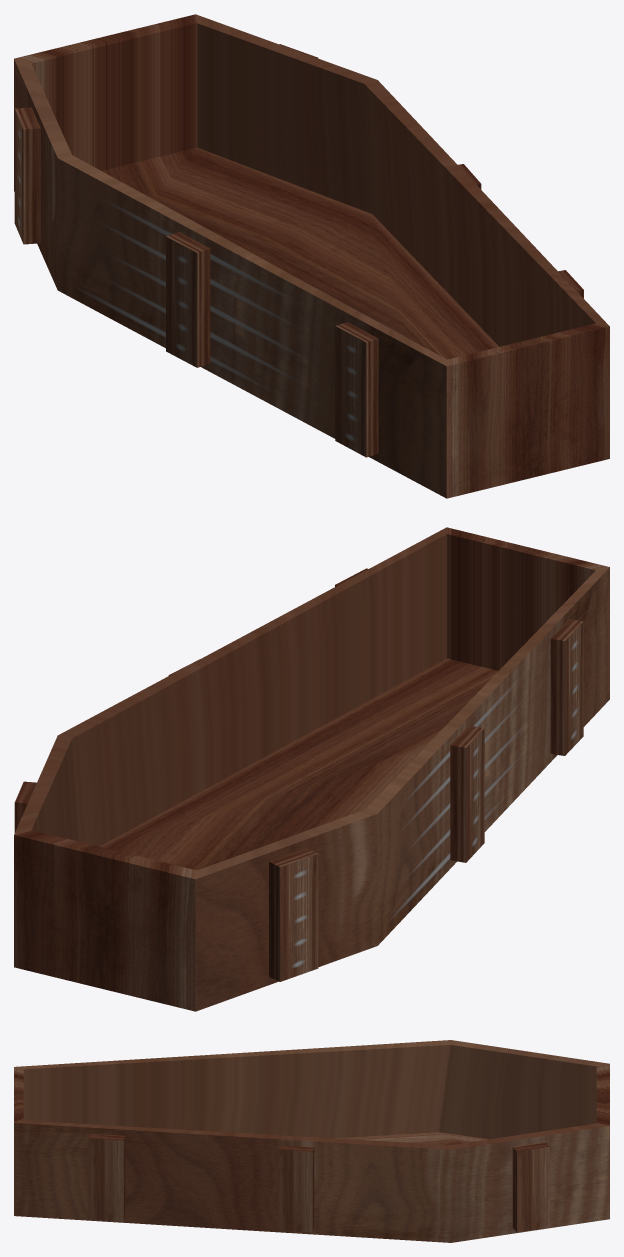
The model's file is Coffin_Textured_001.fbx.
3 renders of one model, top to bottom at view 1: azimuth 30°, elevation 25°; view 2: azimuth 150°, elevation 25°; view 3: azimuth 270°, elevation 25°, orthographic. The views are drawn at different scales.
Visible parts, largest first — view 1: Coffin1; view 2: Coffin1; view 3: Coffin1.
Boxes of the visible parts, left/top/right/bottom form: Coffin1: left=14, top=14, right=609, bottom=498; Coffin1: left=14, top=527, right=609, bottom=1011; Coffin1: left=14, top=1040, right=609, bottom=1242.
Size of the model in its own units: 58.85 by 23.24 by 135.
